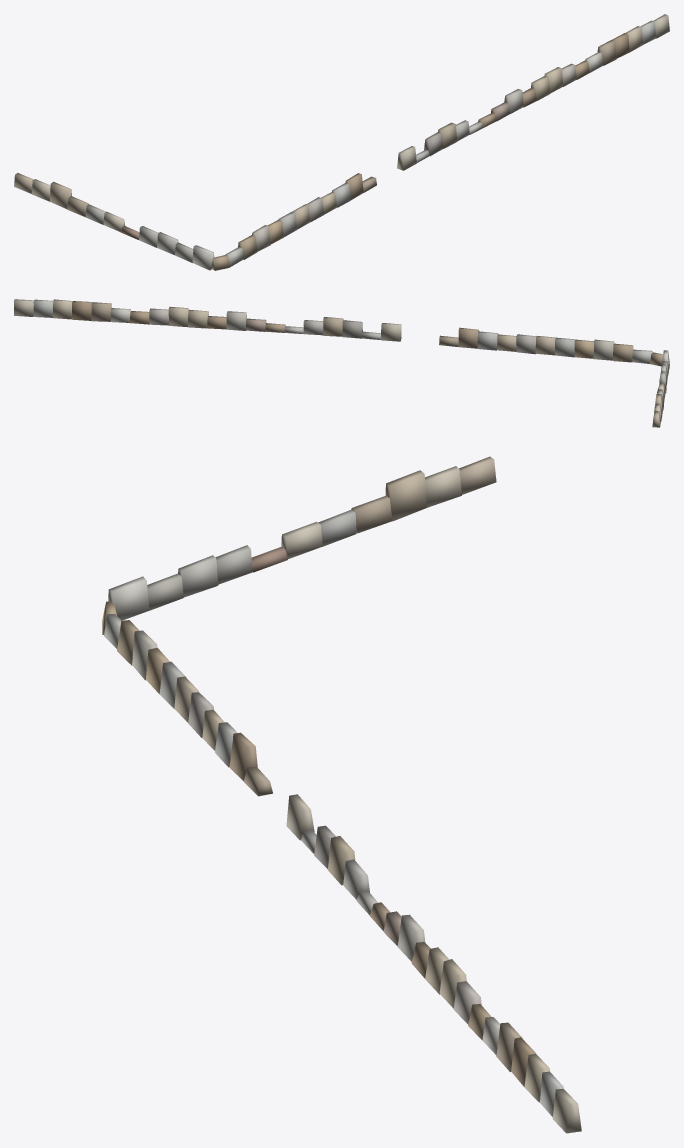
The model's file is farm_-1_18_far.glb.
The picture shows the model from 3 angles, top to bottom: view 1: azimuth 30°, elevation 25°; view 2: azimuth 150°, elevation 25°; view 3: azimuth 270°, elevation 25°; orthographic projection. The views are drawn at different scales.
Visible parts, largest first — view 1: geometry_0; view 2: geometry_0; view 3: geometry_0.
Part boxes in pixels (x1,y1,x2,y2): geometry_0: [14, 14, 669, 270]; geometry_0: [14, 299, 669, 427]; geometry_0: [102, 456, 581, 1133].
Bounding box in the file's own units: 58.69 × 3.65 × 19.5.
